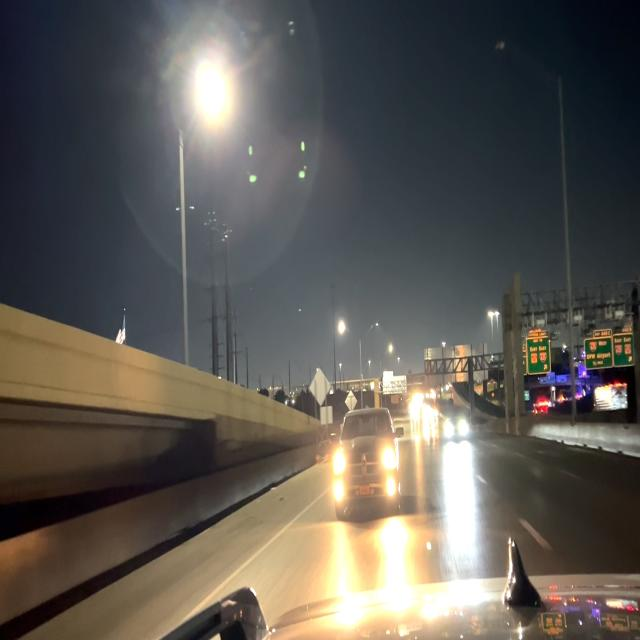back-of-sign: (310, 371, 332, 405), (321, 406, 332, 424)
